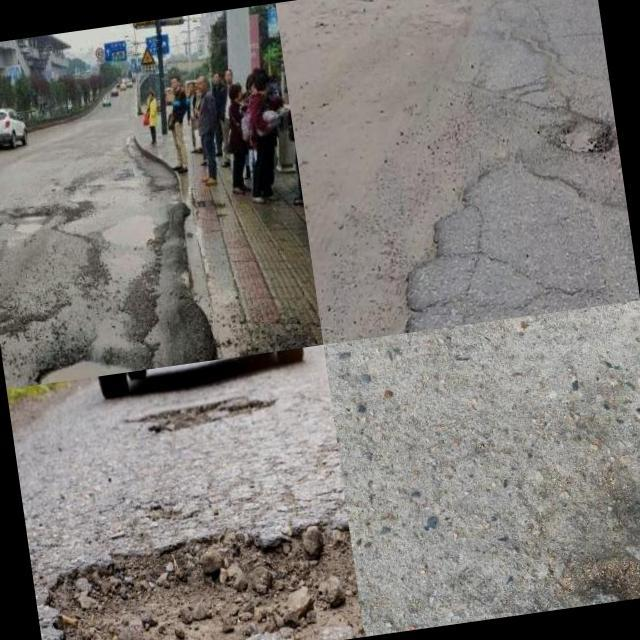Pothole: (49, 529, 365, 640), (320, 221, 442, 345), (129, 400, 269, 431), (38, 358, 141, 385), (552, 114, 614, 157), (106, 210, 158, 244)
